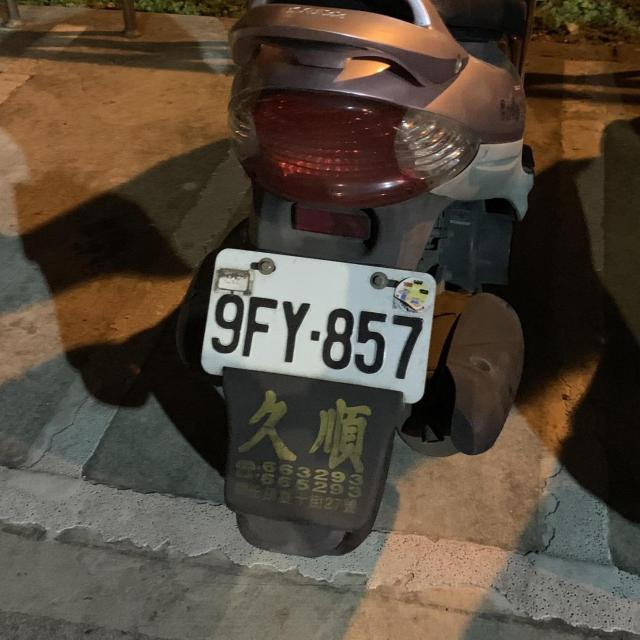W: (198, 247, 441, 397)
